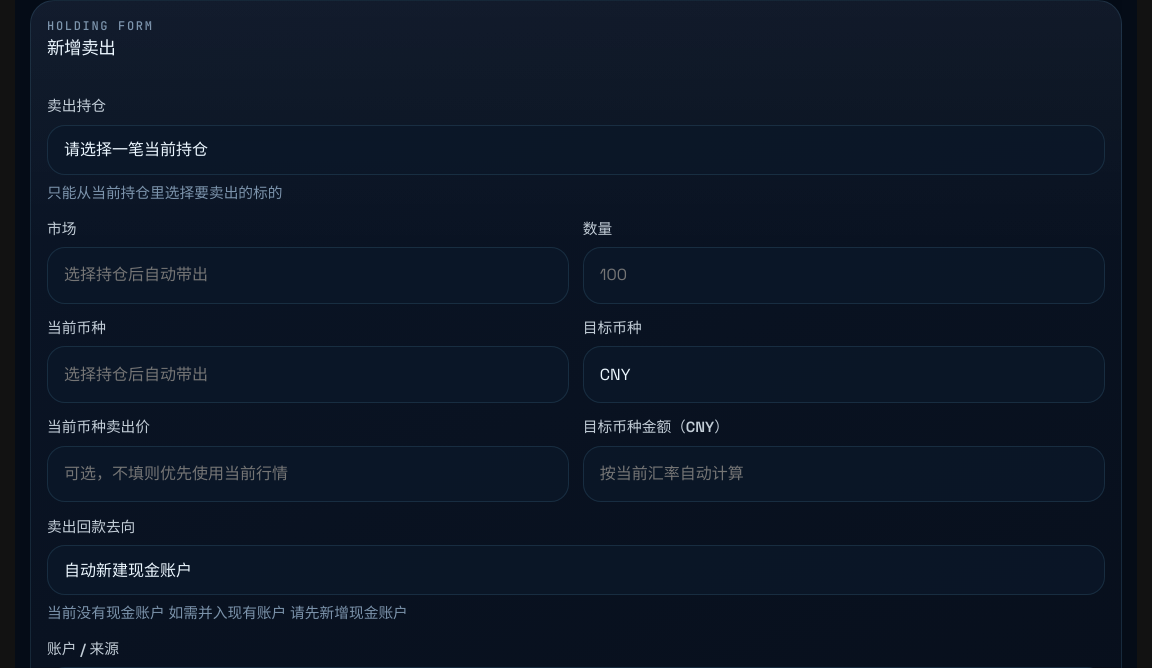
HoldingForm sell proceeds handling › shows the live sell reference price instead of cache wording for sellable holdings
The width and height of the screenshot is (1152, 668).
Select "Apple (AAPL) · 3" in the dropdown labelled "卖出持仓" at (576, 150), box [47,125,1105,175]
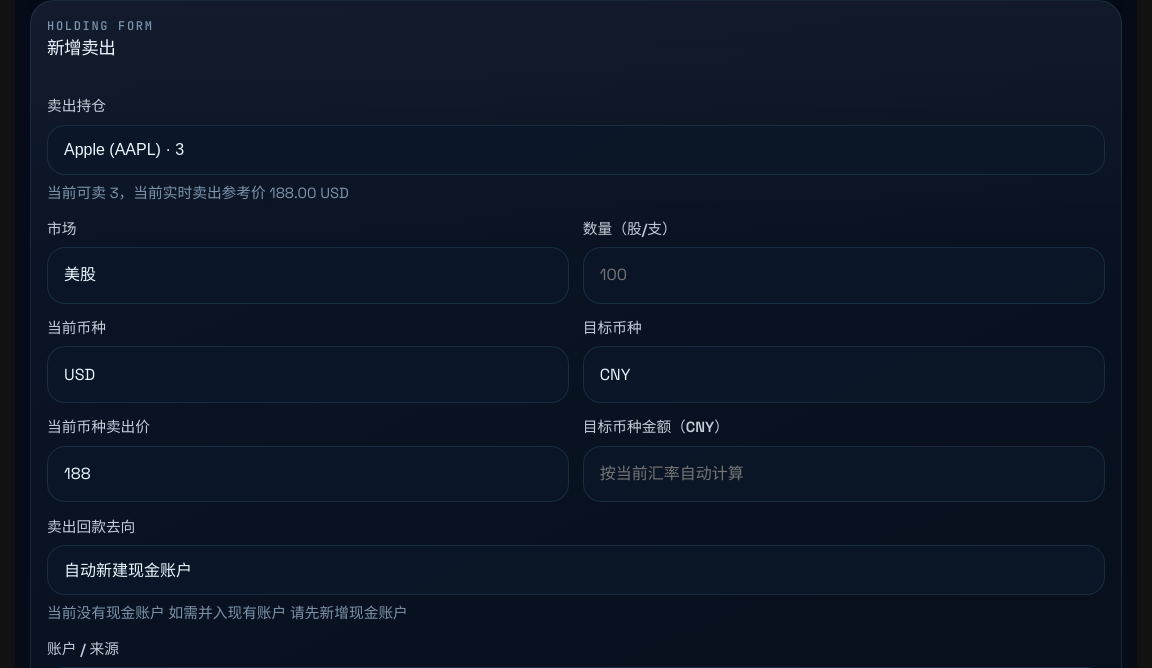
expect the text "当前可卖 3，当前实时卖出参考价 188.00 USD" is shown: met, box [47,184,349,202]
